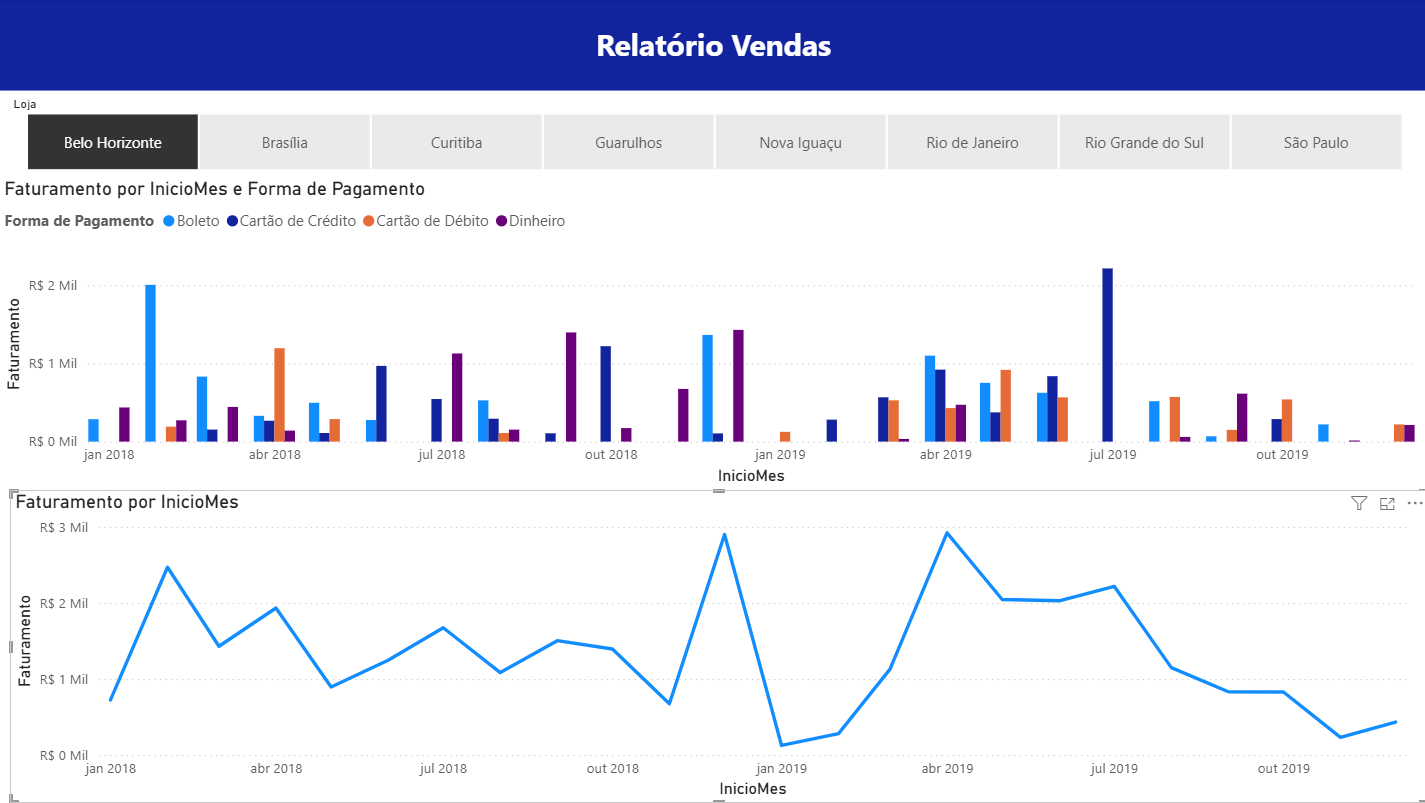

Layout of this report page (visuals, bound fields, positions):
{"tool":"powerbi","page":{"name":"Página 1","canvas":[1280,720],"ordinal":0},"visuals":[{"type":"lineChart","fields":{"Y":["Sum(TabelaVendas.Faturamento)"],"Category":["TabelaCalendario.InicioMes"]},"box":[9.9,439.7,1269.9,280.3],"z":0},{"type":"clusteredColumnChart","fields":{"Y":["Sum(TabelaVendas.Faturamento)"],"Category":["TabelaCalendario.InicioMes"],"Series":["TabelaVendas.Forma de Pagamento"]},"box":[0,159.4,1279.7,280.3],"z":1000},{"type":"slicer","fields":{"Values":["TabelaVendas.Loja"]},"box":[0,82.4,1279.7,77],"z":2000},{"type":"textbox","box":[0,0,1279.7,82.4],"z":3000}]}

Visuals, with their boxes in screenshot pixels (x1, y1, x2, y2), scaled from the page's 1280x720 canvas onto the 1425x803 screenshot:
lineChart - Sum(TabelaVendas.Faturamento) x TabelaCalendario.InicioMes: detection(11, 490, 1424, 802)
clusteredColumnChart - Sum(TabelaVendas.Faturamento) x TabelaCalendario.InicioMes: detection(0, 178, 1424, 490)
slicer - TabelaVendas.Loja: detection(0, 92, 1424, 178)
textbox: detection(0, 0, 1424, 92)
